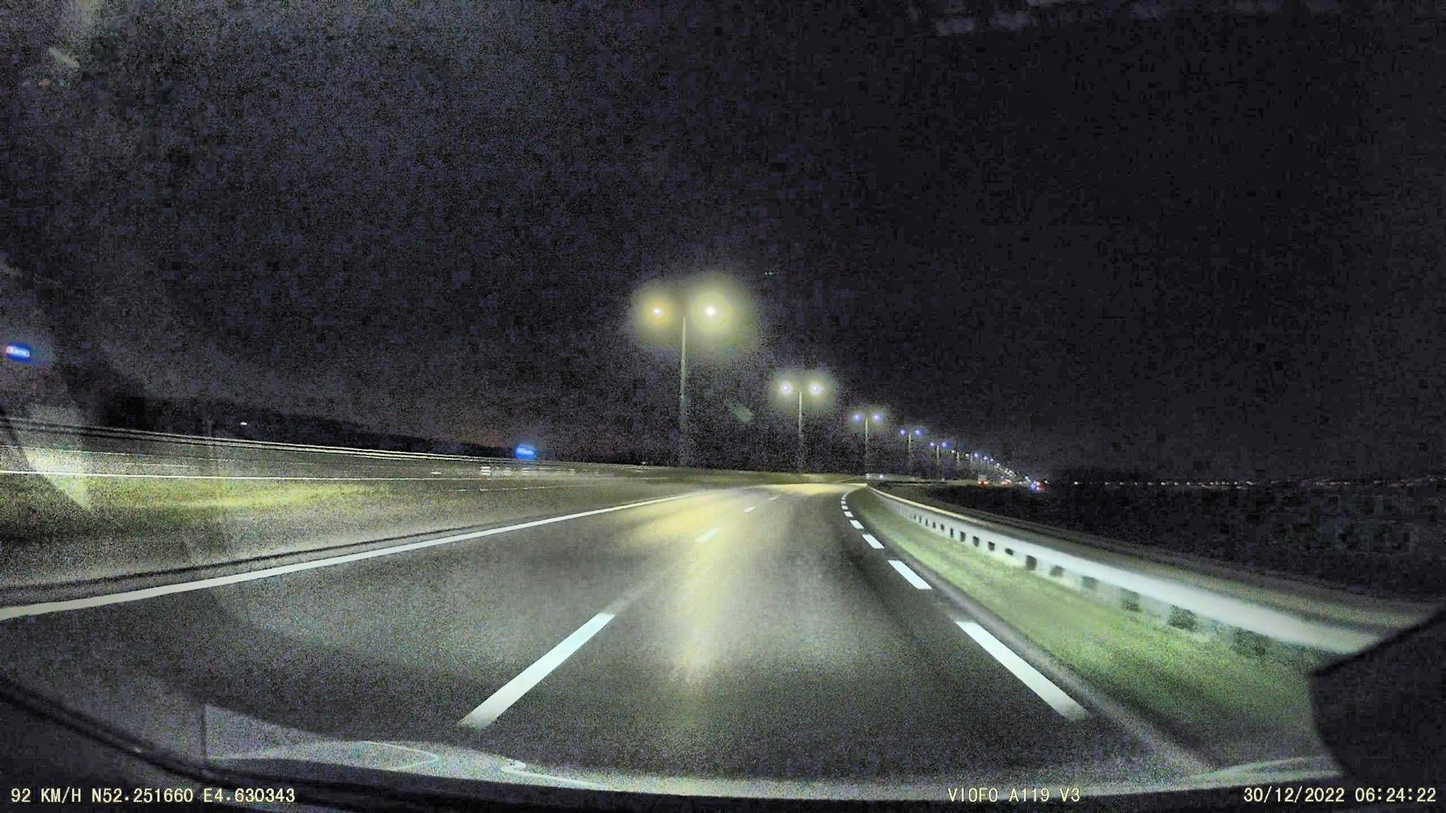Roads: (102, 490, 1216, 799)
